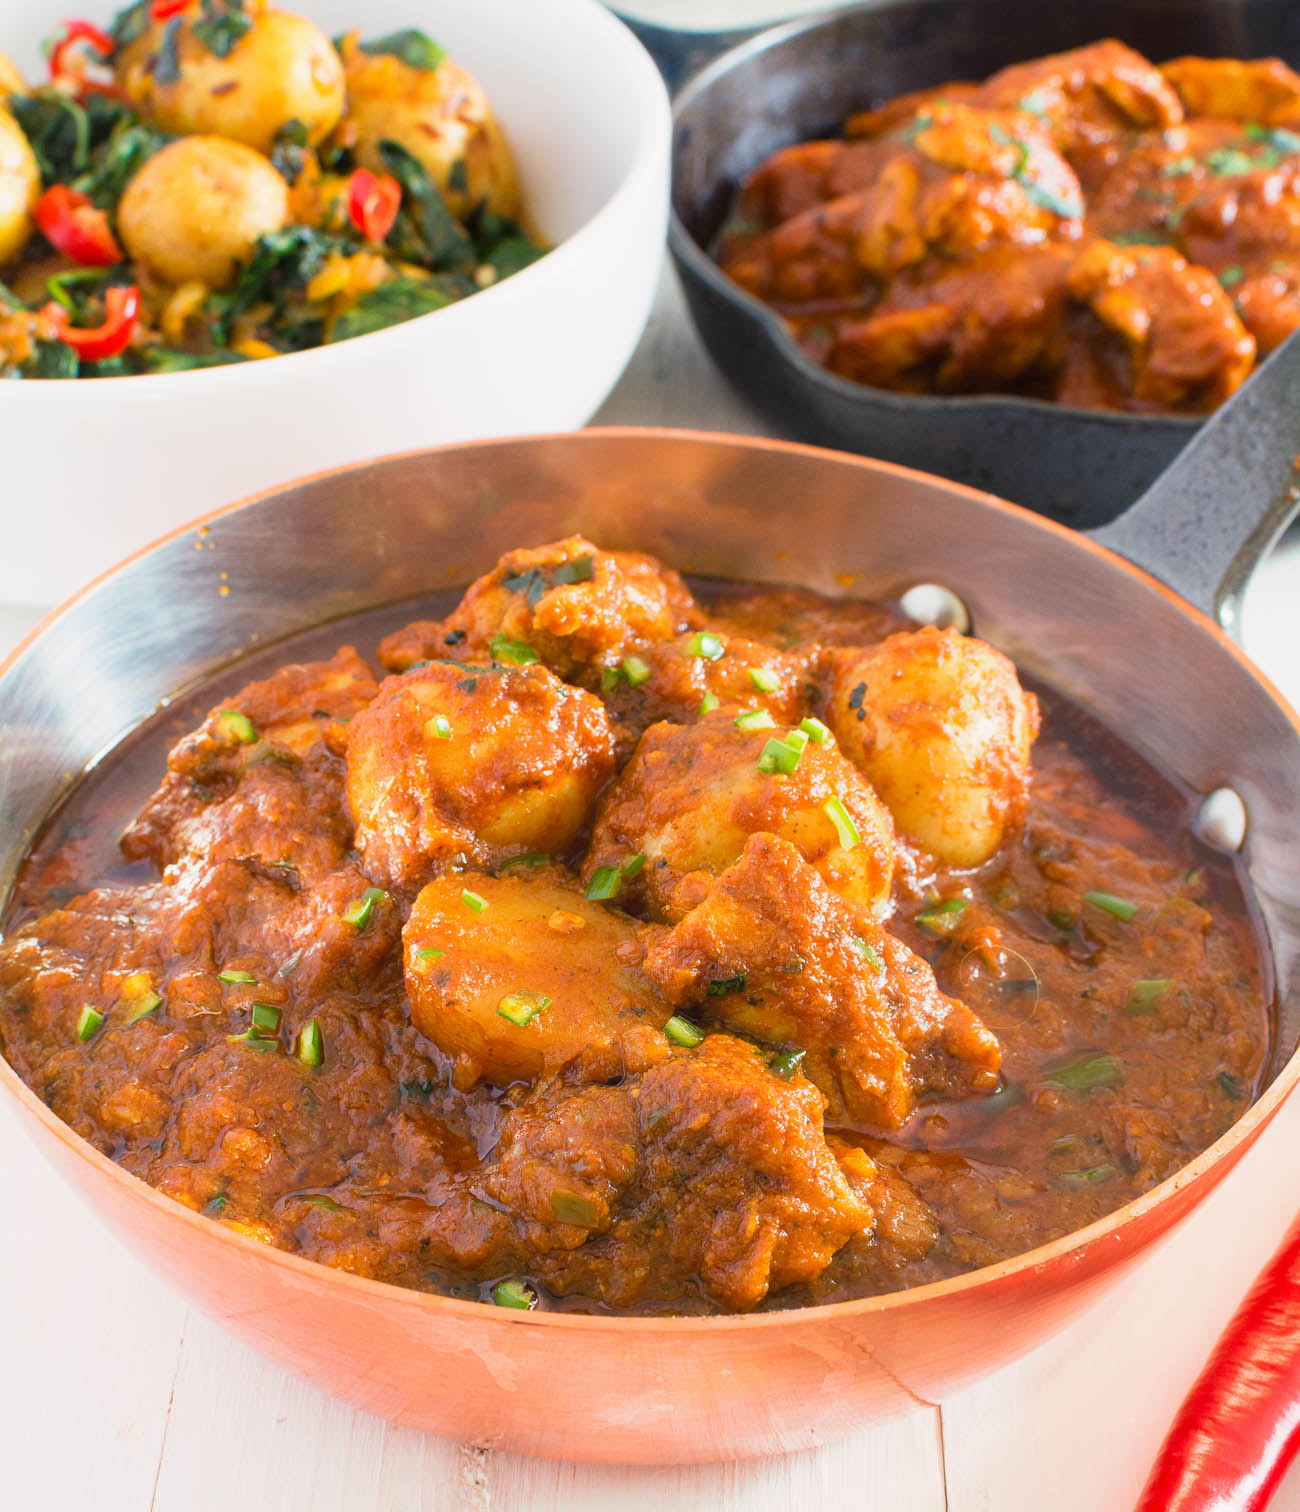chicken_curry: (163, 579, 1192, 1261)
